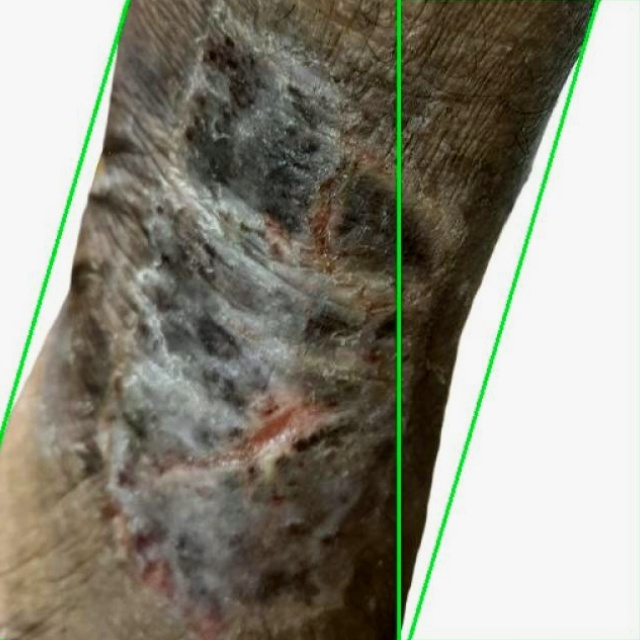Eczema: (0, 0, 598, 639), (398, 0, 639, 639)
